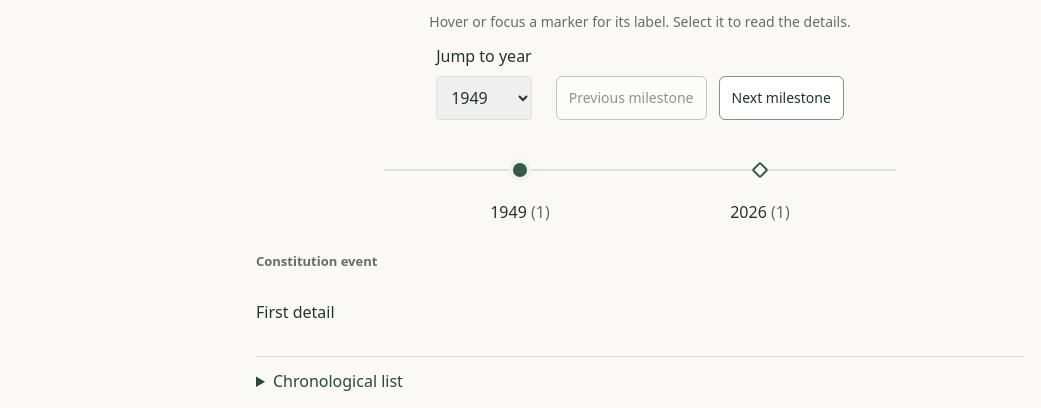
Test case: keyboard history previews during scrolling › dismisses pointer-only previews on scroll
Hover over the 1st button with class "history-milestone" at point(520, 170), box x1=498 y1=148 x2=542 y2=192
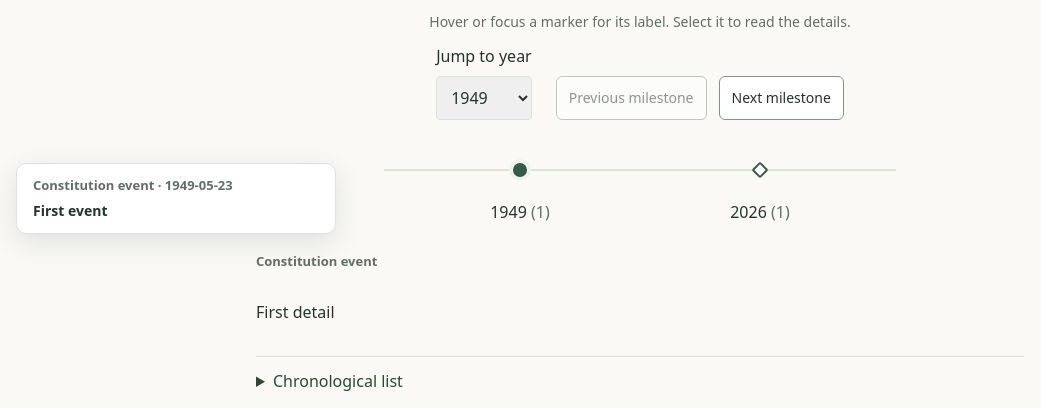
Now the tooltip "Constitution event · 1949-05-23 First event" is shown, box x1=16 y1=163 x2=336 y2=234
